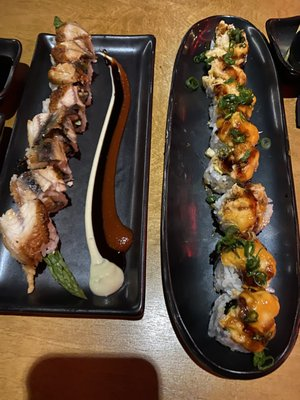curry: (1, 1, 300, 341)
